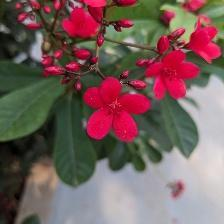jatropha: (83, 76, 154, 145), (148, 48, 202, 99)
